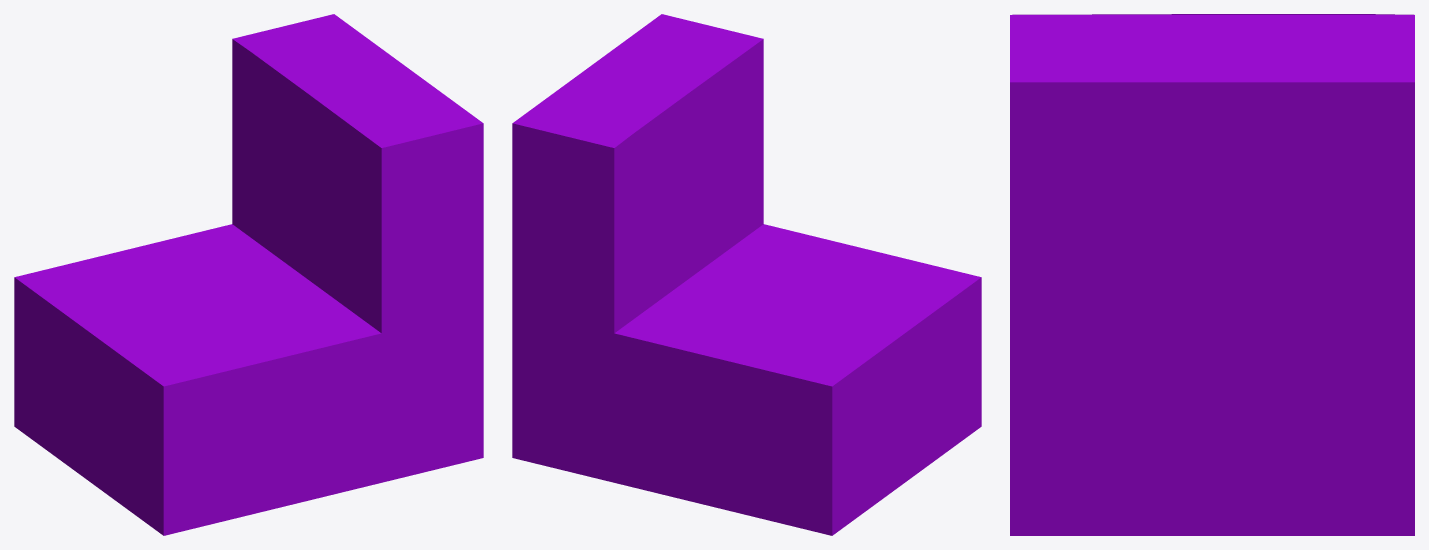
File: sillonmorado1.fbx
3 views of the same model, side by side, from view 1: azimuth 30°, elevation 25°; view 2: azimuth 150°, elevation 25°; view 3: azimuth 270°, elevation 25° (orthographic). The views are drawn at different scales.
Parts seen in each view (by area): view 1: Cube.001; view 2: Cube.001; view 3: Cube.001.
Boxes of the visible parts, x1,y1,x2,y2 form: Cube.001: (14,14,483,535); Cube.001: (512,14,981,535); Cube.001: (1010,14,1414,535).
Bounding box in the file's own units: 723 × 724 × 585.
